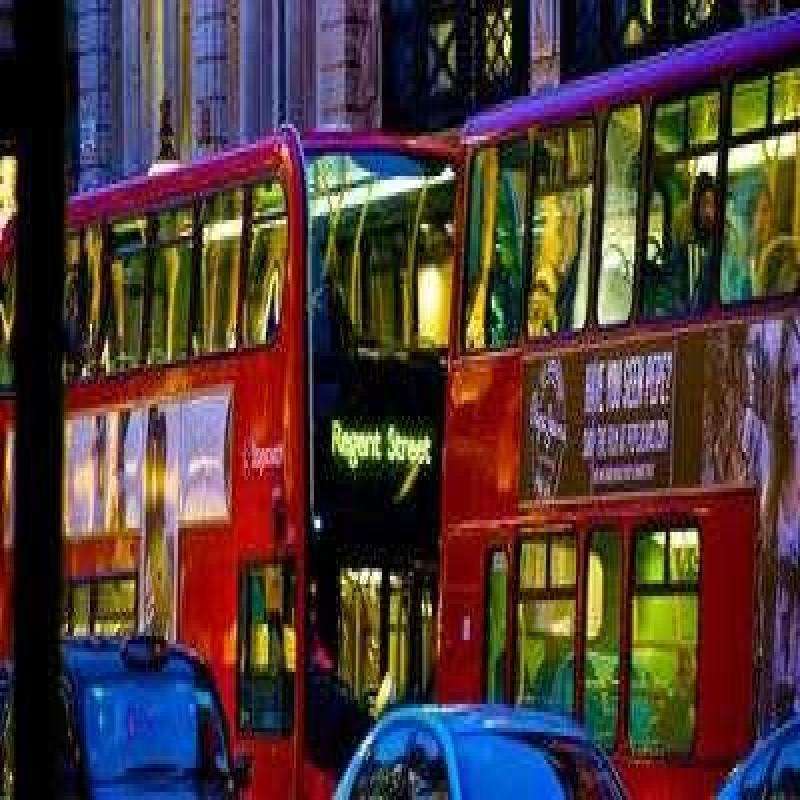bus: (427, 30, 800, 800), (11, 134, 399, 800)
